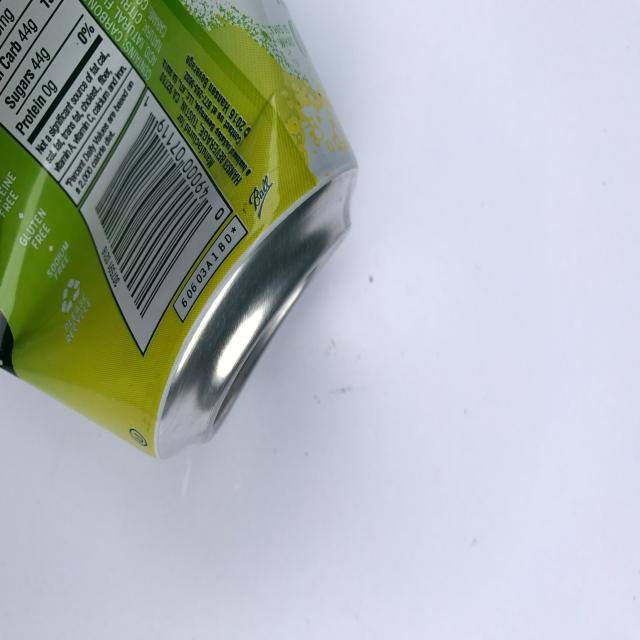metal: (0, 0, 358, 460)
